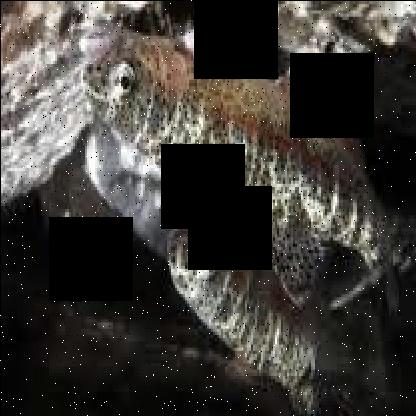fish: (80, 23, 412, 315)
